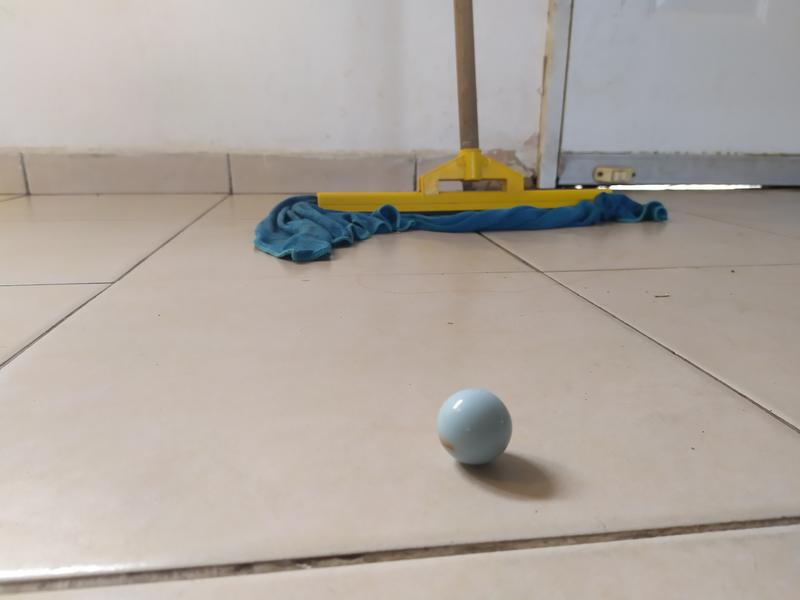Warning: (433, 386, 516, 468)
